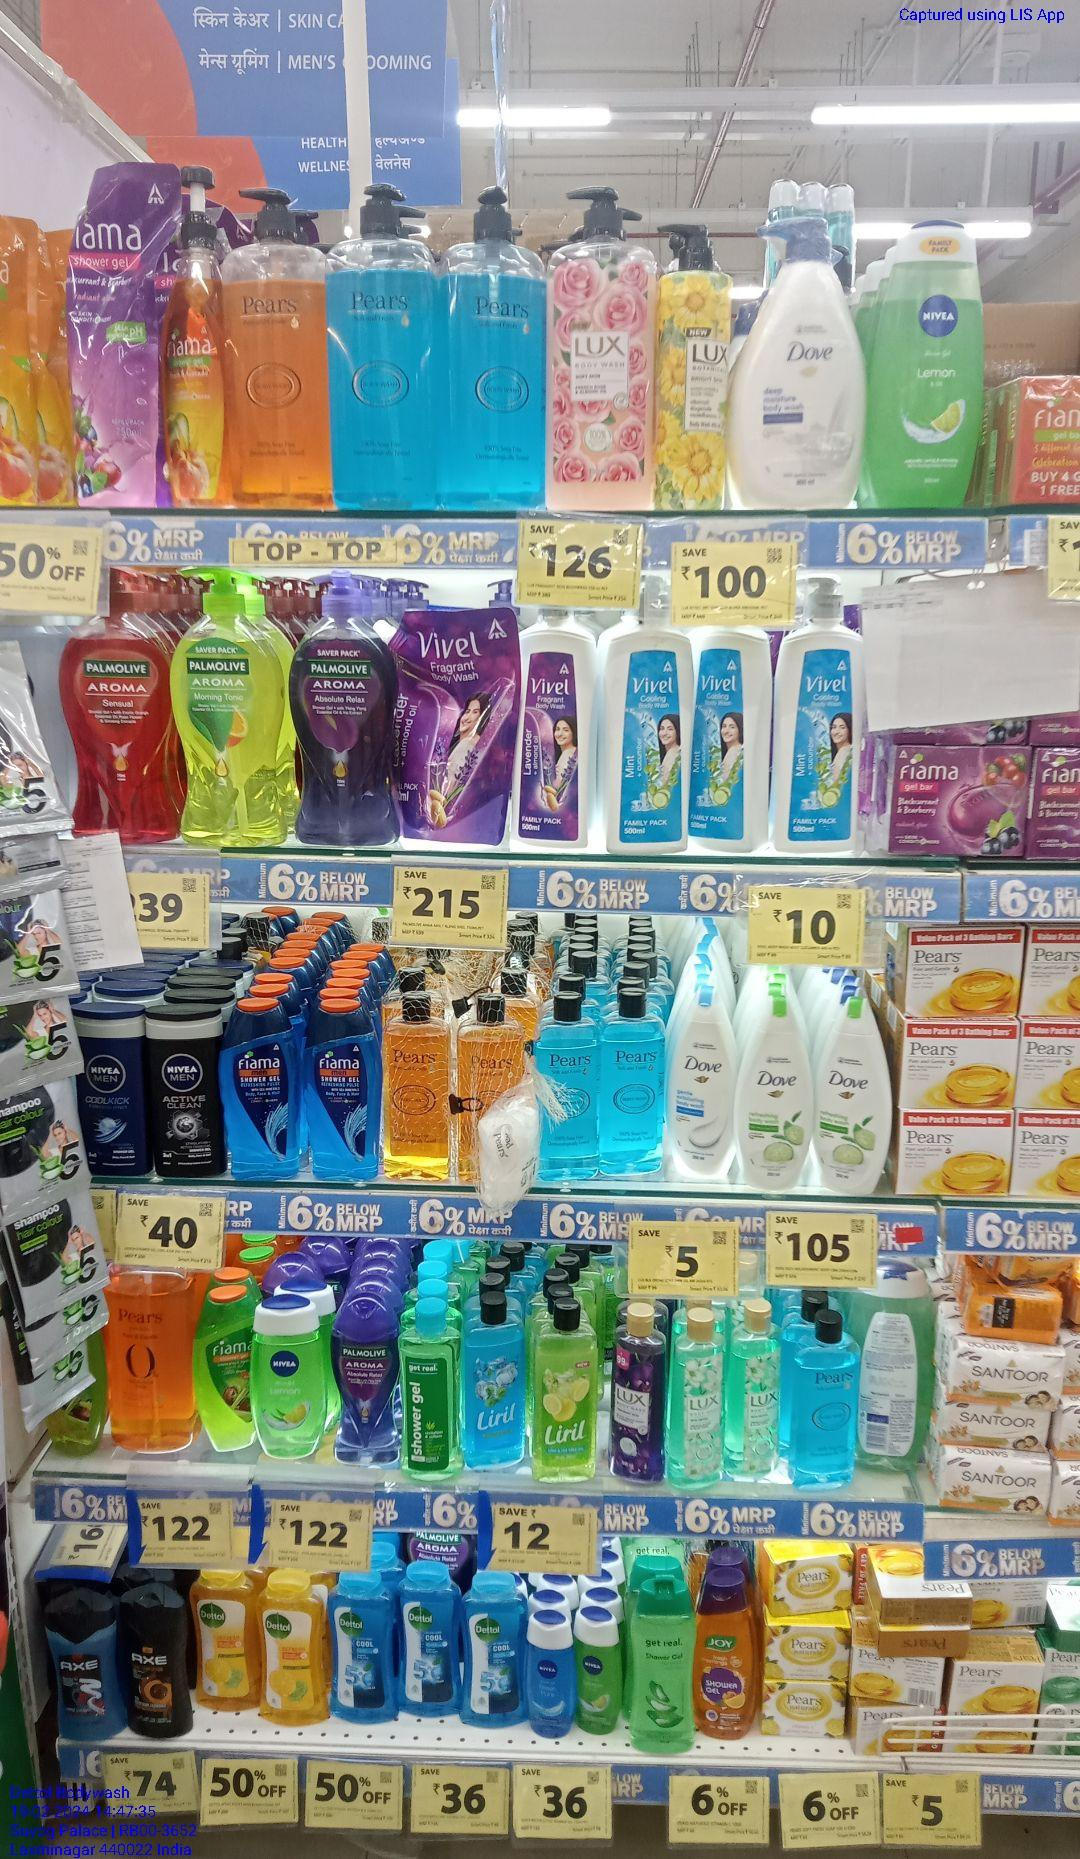Dettol_Bodywash_Cool: (397, 1562, 462, 1715), (463, 1575, 526, 1728), (333, 1568, 393, 1724)
Dettol_Bodywash_Refresh: (260, 1571, 328, 1721), (198, 1567, 257, 1710)
Dove_Gentle_Exfoliating_Body_Wash_250ML: (671, 987, 738, 1179)
Dove_Refreshing_Body_Wash_250ML: (815, 996, 888, 1199), (739, 992, 814, 1192)
Joy_Shower_Gel_Mandarin_and_Lemongrass_250ML: (694, 1570, 759, 1739)
Liril_Cooling_Mint_Body_Wash_250ML: (467, 1295, 527, 1469)
Liril_Lime_and_Tea_Tree_Oil_Body_Wash_250ML: (537, 1298, 598, 1478)
Lux_Black_Orchid_Scent_and_Juniper_Oil_Body_Wash_245ML: (607, 1305, 669, 1486)
Lux_Body_Wash_Skin_Detox_Freesia_Scent_and_Alove_Vera_245ML: (671, 1310, 726, 1490), (726, 1305, 778, 1486)
Nivea_Shower_Gel_Lemon_and_Oil_250ML: (253, 1295, 325, 1458)
Pears_Pure_Glycerin_and_Mint_Extracts_Body_Wash_250ML: (791, 1311, 863, 1487), (599, 987, 662, 1180), (541, 994, 597, 1188)
